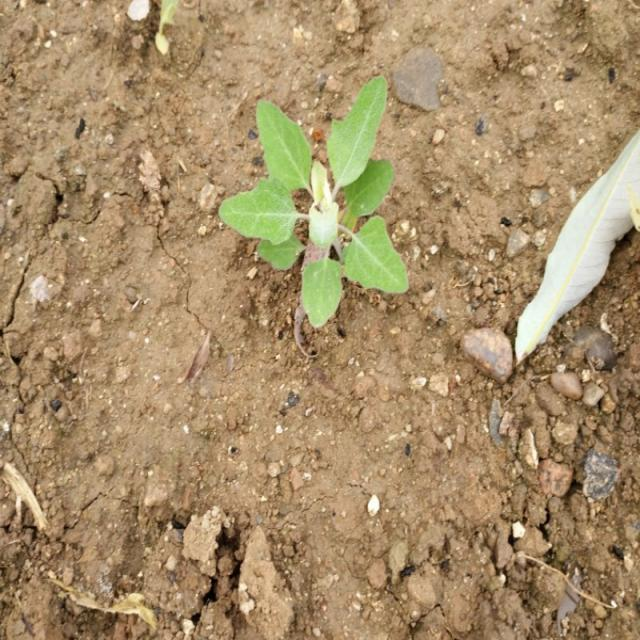ca: (221, 78, 410, 326)
